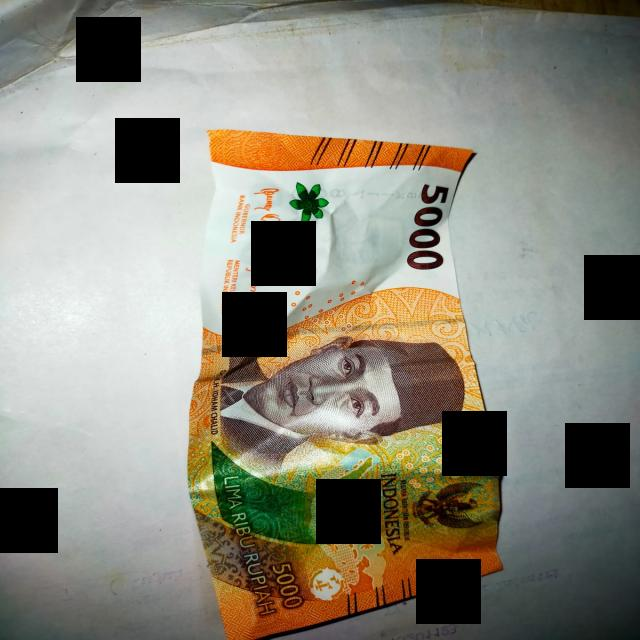lima ribu rupiah: (188, 130, 502, 640)
